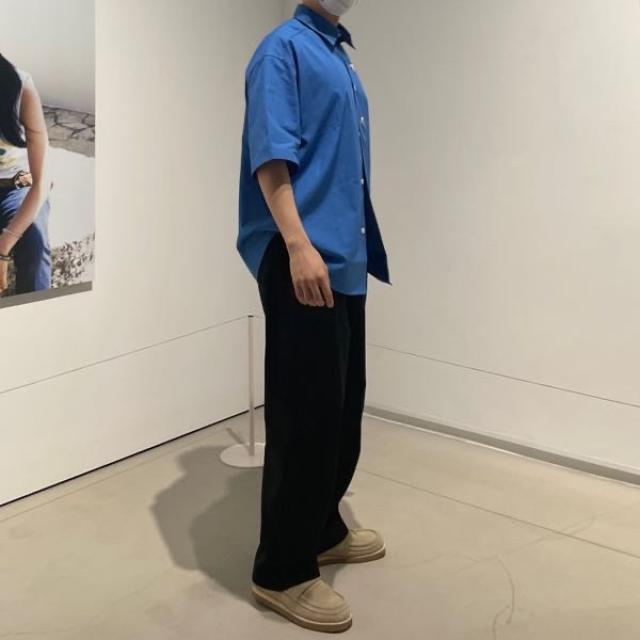denimpants: (0, 178, 52, 295)
shirt: (238, 3, 379, 293)
shortsleeve: (0, 36, 44, 157)
slacks: (255, 227, 368, 601)
